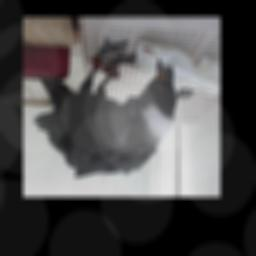Crow: (32, 37, 180, 179)
